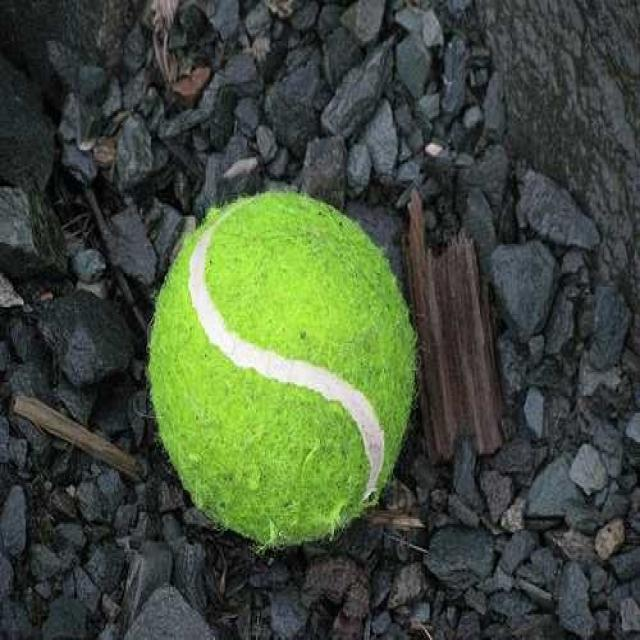Tennis_Ball: (144, 177, 418, 554)
